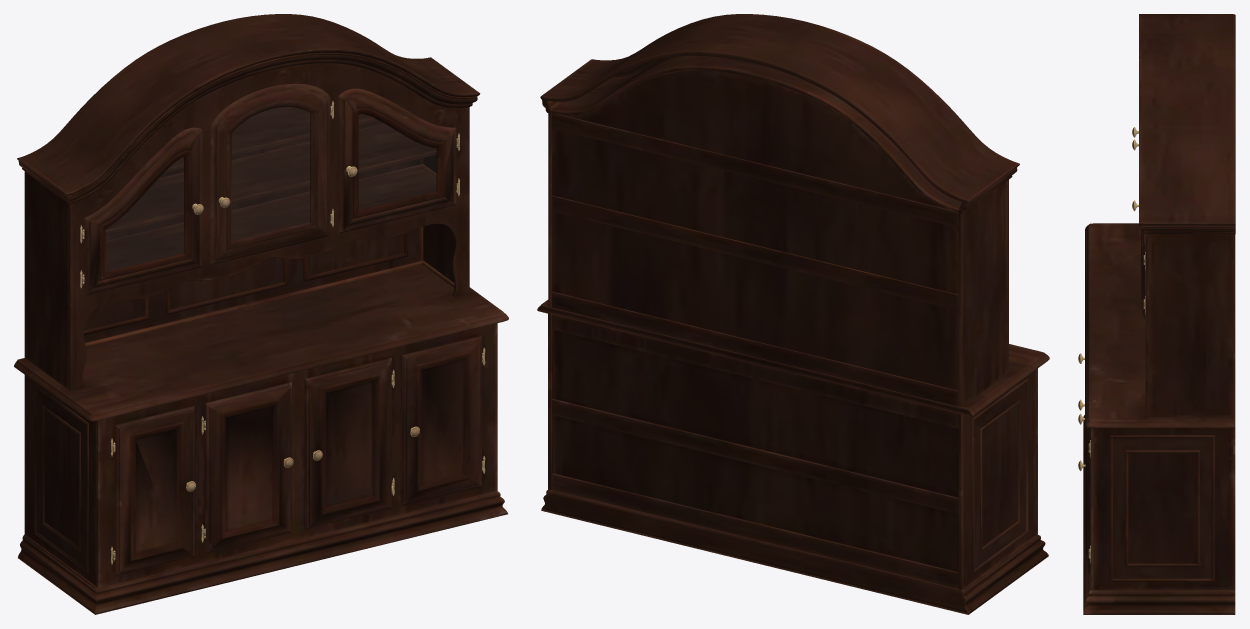
Rendered from vintage_cabinet_01.glb.
3 views of the same model, side by side, from view 1: azimuth 30°, elevation 25°; view 2: azimuth 150°, elevation 25°; view 3: azimuth 270°, elevation 25° (orthographic). The views are drawn at different scales.
Parts seen in each view (by area): view 1: vintage_cabinet_01_body, vintage_cabinet_01_door_01; view 2: vintage_cabinet_01_body; view 3: vintage_cabinet_01_body.
Part boxes in pixels (<box>): vintage_cabinet_01_body: <box>14,14,508,614</box>; vintage_cabinet_01_door_01: <box>106,107,436,271</box>; vintage_cabinet_01_body: <box>537,14,1049,614</box>; vintage_cabinet_01_body: <box>1078,14,1235,614</box>.
Bounding box in the file's own units: 2.02 × 2.24 × 0.6699.
Materials: 3 (2 with a texture image).
